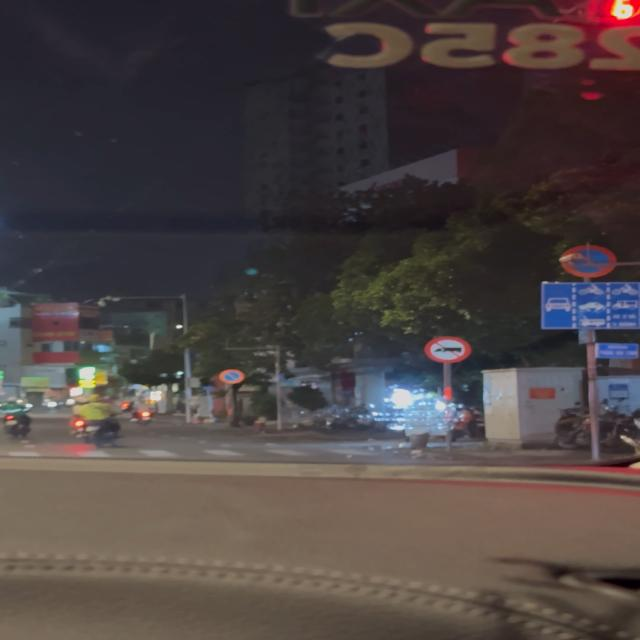Bien bao cam do xe: (216, 366, 248, 386)
Bien bao cam xe so-mi ro-mooc: (421, 334, 472, 364)
